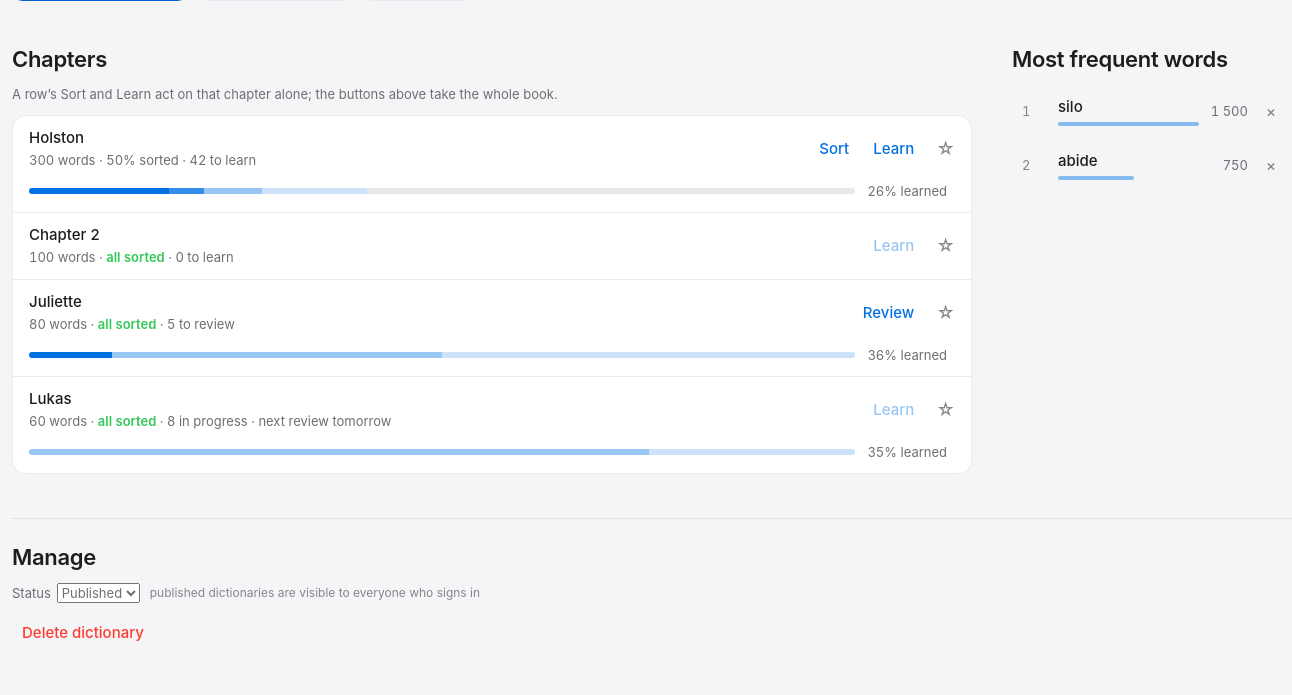
Scenario: DictionaryScreen — visibility › reverts the status and shows an error when the request fails
(page scrolled)
Select "Private" in the dropdown at (98, 593), box [57, 583, 140, 603]
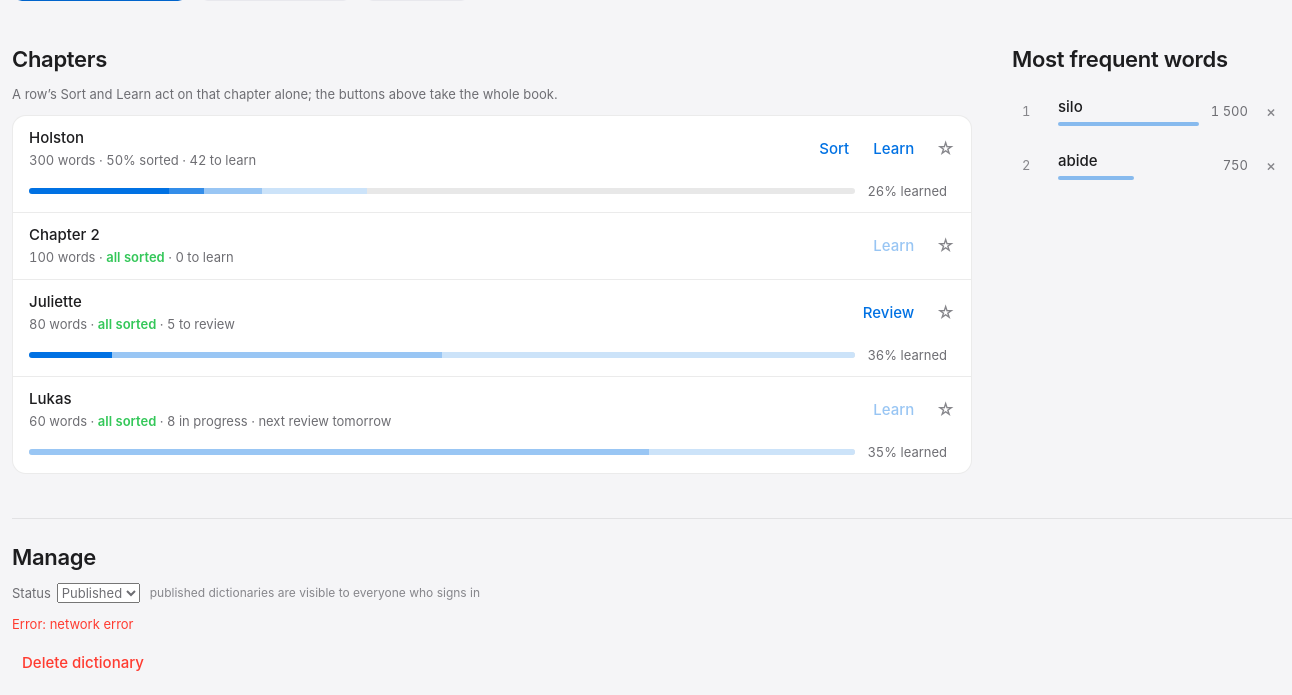
Expected: the text "network error" is shown, [12, 616, 134, 632]
